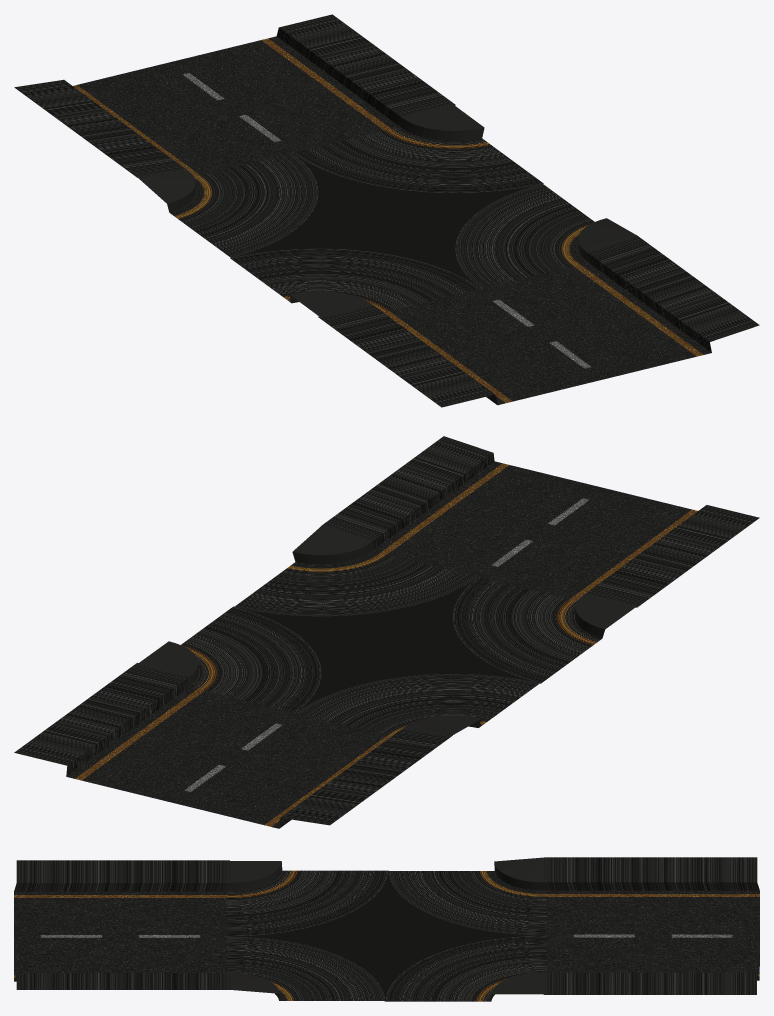
Rendered from roadMeets2.fbx.
3 views of the same model, one above another, from view 1: azimuth 30°, elevation 25°; view 2: azimuth 150°, elevation 25°; view 3: azimuth 270°, elevation 25° (orthographic). The views are drawn at different scales.
Parts seen in each view (by area): view 1: Plane.001; view 2: Plane.001; view 3: Plane.001.
Boxes of the visible parts, x1,y1,x2,y2 form: Plane.001: (14, 14, 759, 407); Plane.001: (14, 436, 759, 828); Plane.001: (14, 857, 759, 1001).
Size of the model in its own units: 299 by 12.88 by 700.
